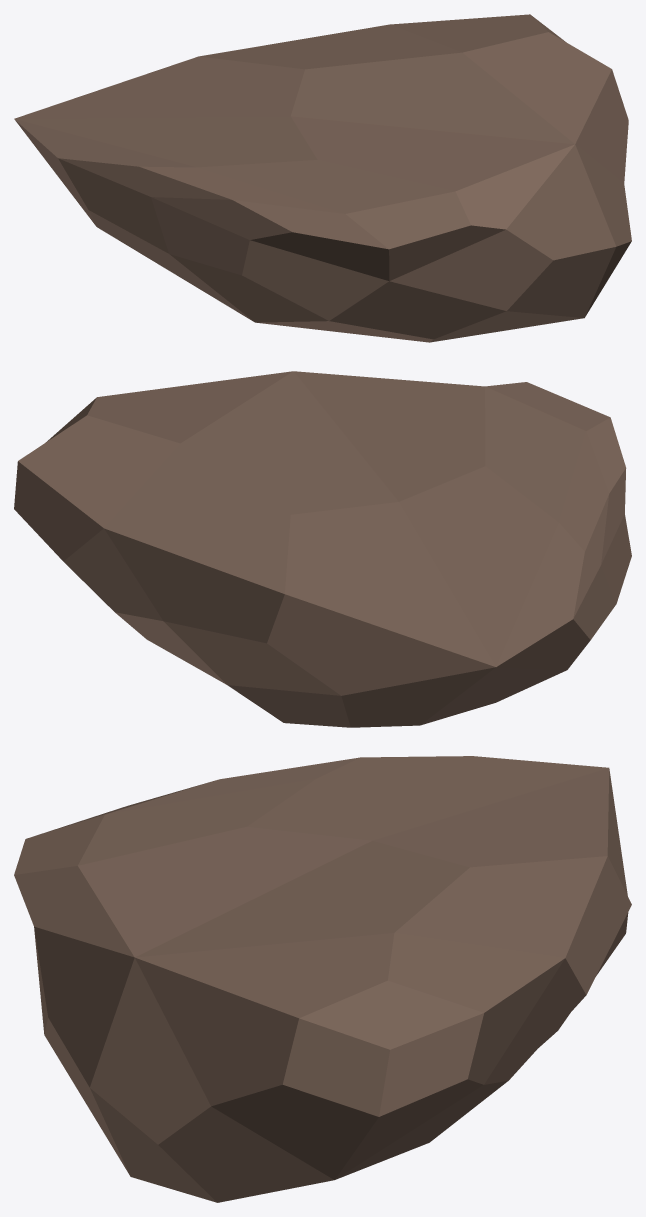
The model's file is piedra_3.fbx.
3 views of the same model, one above another, from view 1: azimuth 30°, elevation 25°; view 2: azimuth 150°, elevation 25°; view 3: azimuth 270°, elevation 25° (orthographic). The views are drawn at different scales.
Parts seen in each view (by area): view 1: piedra_4; view 2: piedra_4; view 3: piedra_4.
Boxes of the visible parts, <box> form: piedra_4: <box>14,14,631,342</box>; piedra_4: <box>14,371,631,727</box>; piedra_4: <box>14,756,631,1202</box>.
Bounding box in the file's own units: 38.83 × 13.91 × 32.82.
